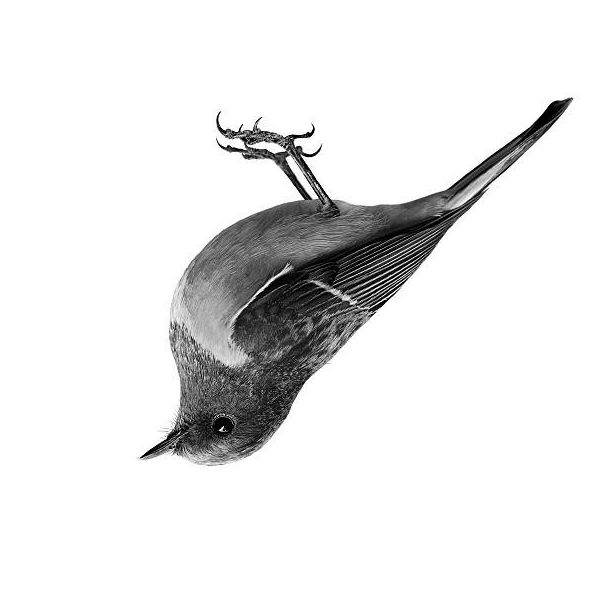Bird: (128, 99, 573, 469)
